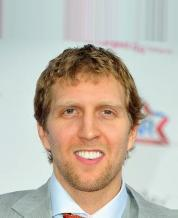face: (60, 103, 116, 167)
